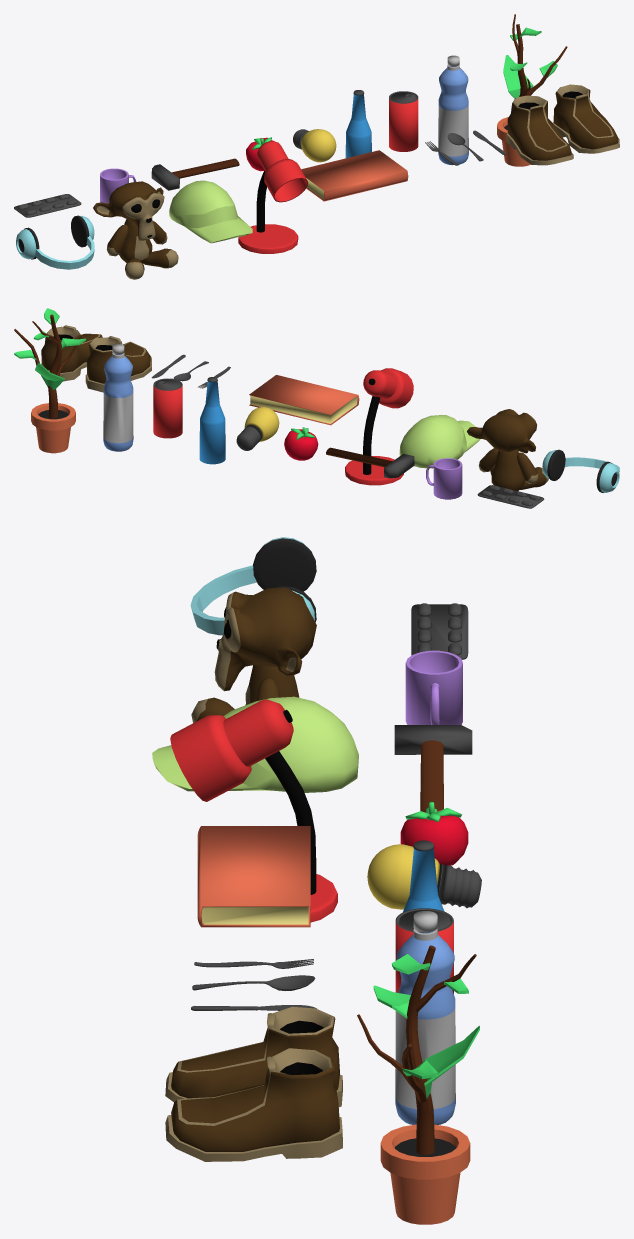
Rendered from ItemsGlitched.fbx.
3 renders of one model, top to bottom at view 1: azimuth 30°, elevation 25°; view 2: azimuth 150°, elevation 25°; view 3: azimuth 270°, elevation 25°, orthographic. The views are drawn at different scales.
Visible parts, largest first — view 1: Monke_Glitched, Lamp_Glitched, Book_Glitched, Hat_Glitched, ShoeR_Glitched, ShoeL_Glitched, PlasticBottle_Glitched, Plant_Glitched, Headphones_Glitched, Can_Glitched, Bottle_Glitched, Lightbulb_Glitched (+4 smaller); view 2: Monke_Glitched, Plant_Glitched, Book_Glitched, Lamp_Glitched, PlasticBottle_Glitched, Hat_Glitched, ShoeR_Glitched, Bottle_Glitched, Can_Glitched, ShoeL_Glitched, Headphones_Glitched, Mug_Glitched (+4 smaller); view 3: ShoeL_Glitched, Plant_Glitched, Book_Glitched, Lamp_Glitched, Monke_Glitched, Hat_Glitched, ShoeR_Glitched, PlasticBottle_Glitched, Headphones_Glitched, Mug_Glitched, Lightbulb_Glitched, Hammer_Glitched (+4 smaller).
Boxes of the visible parts, x1,y1,x2,y2 form: Monke_Glitched: (93,181,178,279); Lamp_Glitched: (238,141,307,253); Book_Glitched: (301,150,408,201); Hat_Glitched: (169,180,252,243); ShoeR_Glitched: (506,95,573,165); ShoeL_Glitched: (553,84,619,153); PlasticBottle_Glitched: (438,55,468,165); Plant_Glitched: (497,14,567,166); Headphones_Glitched: (16,215,94,269); Can_Glitched: (389,91,418,151); Bottle_Glitched: (345,90,371,158); Lightbulb_Glitched: (293,129,336,162); Monke_Glitched: (467,409,548,490); Plant_Glitched: (14,308,85,453); Book_Glitched: (249,375,359,425); Lamp_Glitched: (345,368,413,485); PlasticBottle_Glitched: (103,343,133,451); Hat_Glitched: (399,415,480,468); ShoeR_Glitched: (85,336,151,392); Bottle_Glitched: (199,377,225,464); Can_Glitched: (153,378,182,438); ShoeL_Glitched: (41,325,102,381); Headphones_Glitched: (542,449,619,492); Mug_Glitched: (426,458,462,499); ShoeL_Glitched: (165,1048,342,1161); Plant_Glitched: (357,945,479,1224); Book_Glitched: (197,826,310,927); Lamp_Glitched: (170,699,337,922); Monke_Glitched: (191,587,316,722); Hat_Glitched: (152,696,358,792); ShoeR_Glitched: (165,1006,342,1107); PlasticBottle_Glitched: (395,911,455,1124); Headphones_Glitched: (190,537,316,635); Mug_Glitched: (405,650,462,724); Lightbulb_Glitched: (367,844,481,909); Hammer_Glitched: (394,725,472,811).
Size of the model in its own units: 279 by 62.14 by 69.7.
